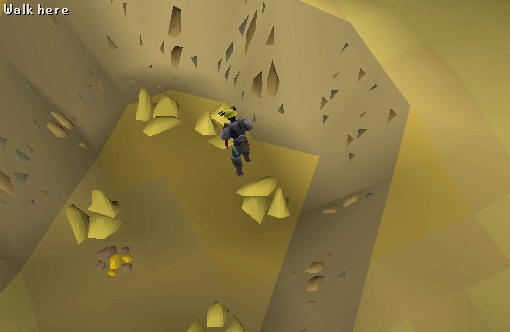gold: (56, 190, 138, 244), (230, 174, 303, 230), (132, 87, 189, 143)
